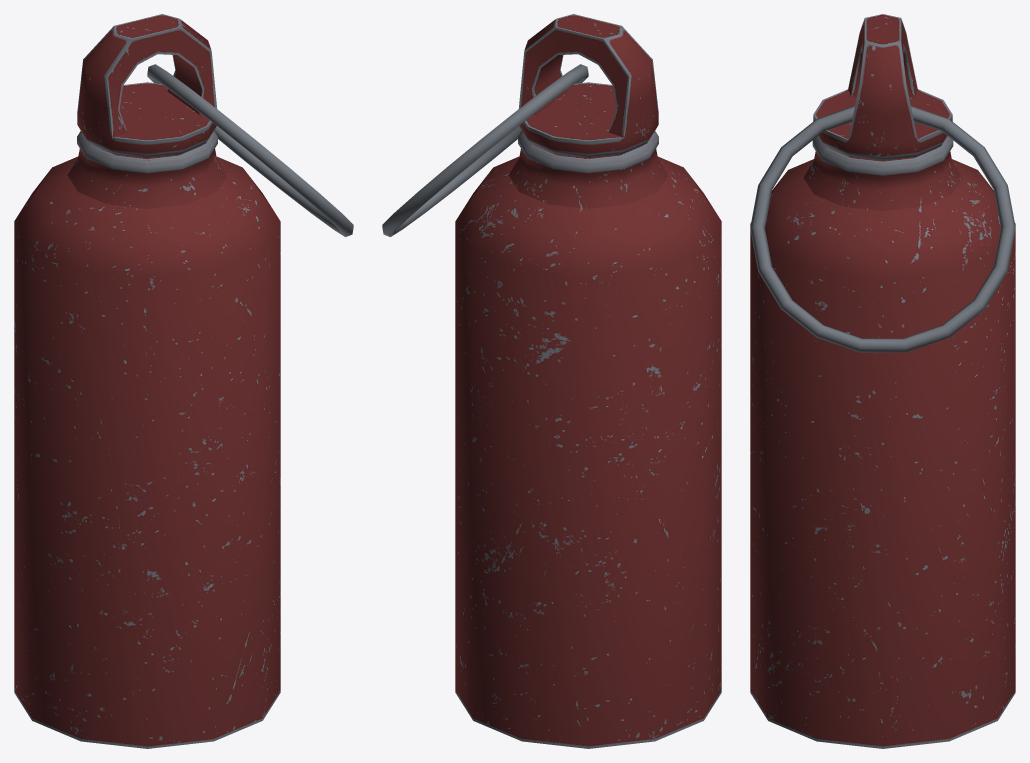
The model's file is tomatodo.fbx.
3 views of the same model, side by side, from view 1: azimuth 30°, elevation 25°; view 2: azimuth 150°, elevation 25°; view 3: azimuth 270°, elevation 25° (orthographic).
Visible parts, largest first — view 1: tomatodo; view 2: tomatodo; view 3: tomatodo.
Part boxes in pixels (x1,y1,x2,y2): tomatodo: (14, 14, 353, 748); tomatodo: (382, 14, 721, 748); tomatodo: (750, 14, 1015, 748).
Bounding box in the file's own units: 87.26 × 186 × 67.61.
Materials: 1 (1 with a texture image).
